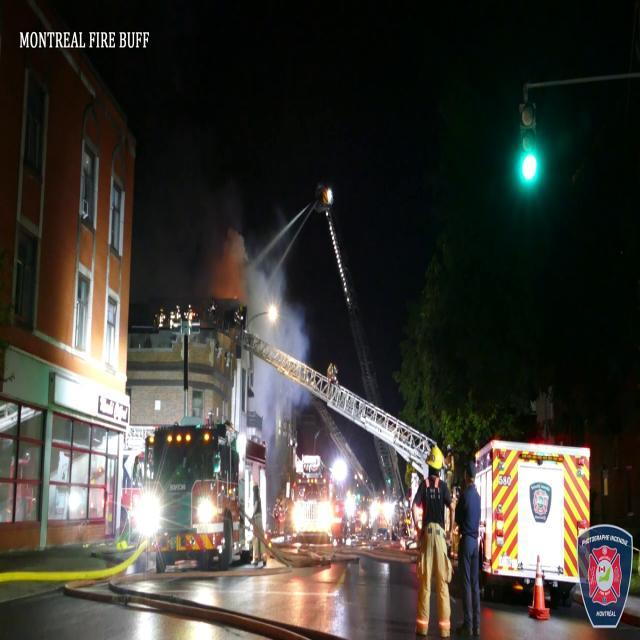Smoke: (204, 214, 308, 422)
